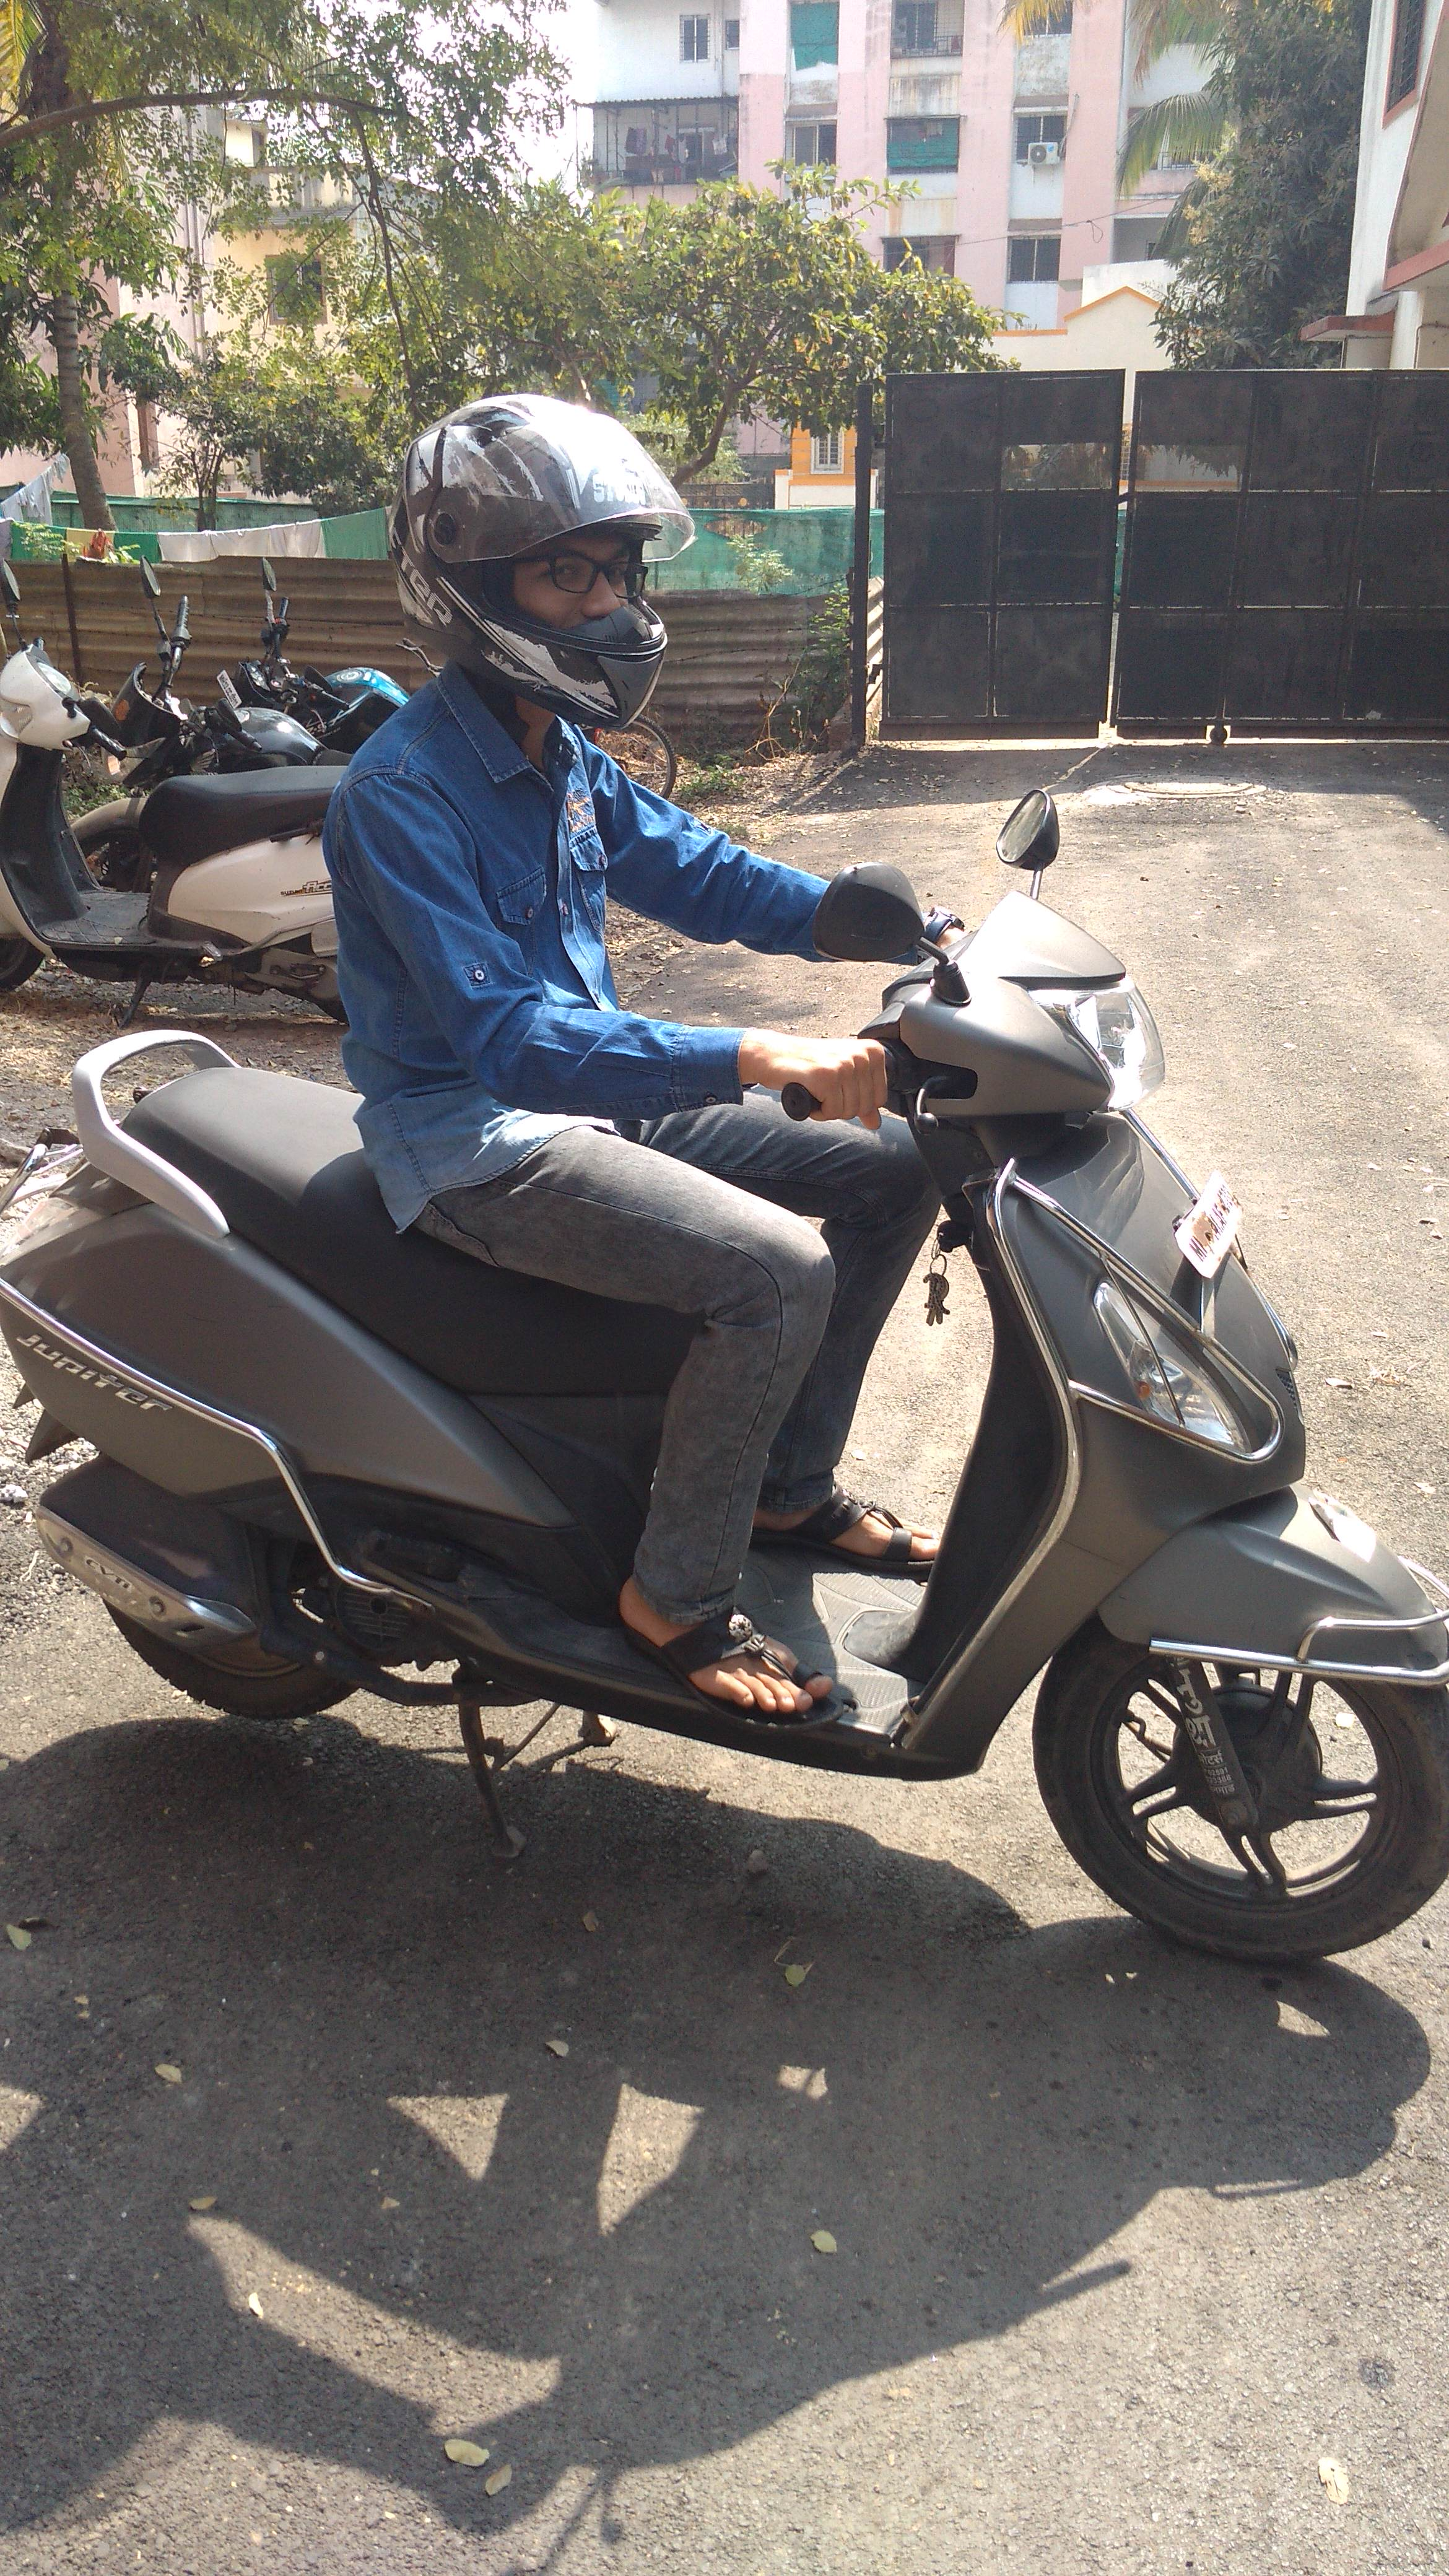helmet: (280, 400, 959, 1300)
